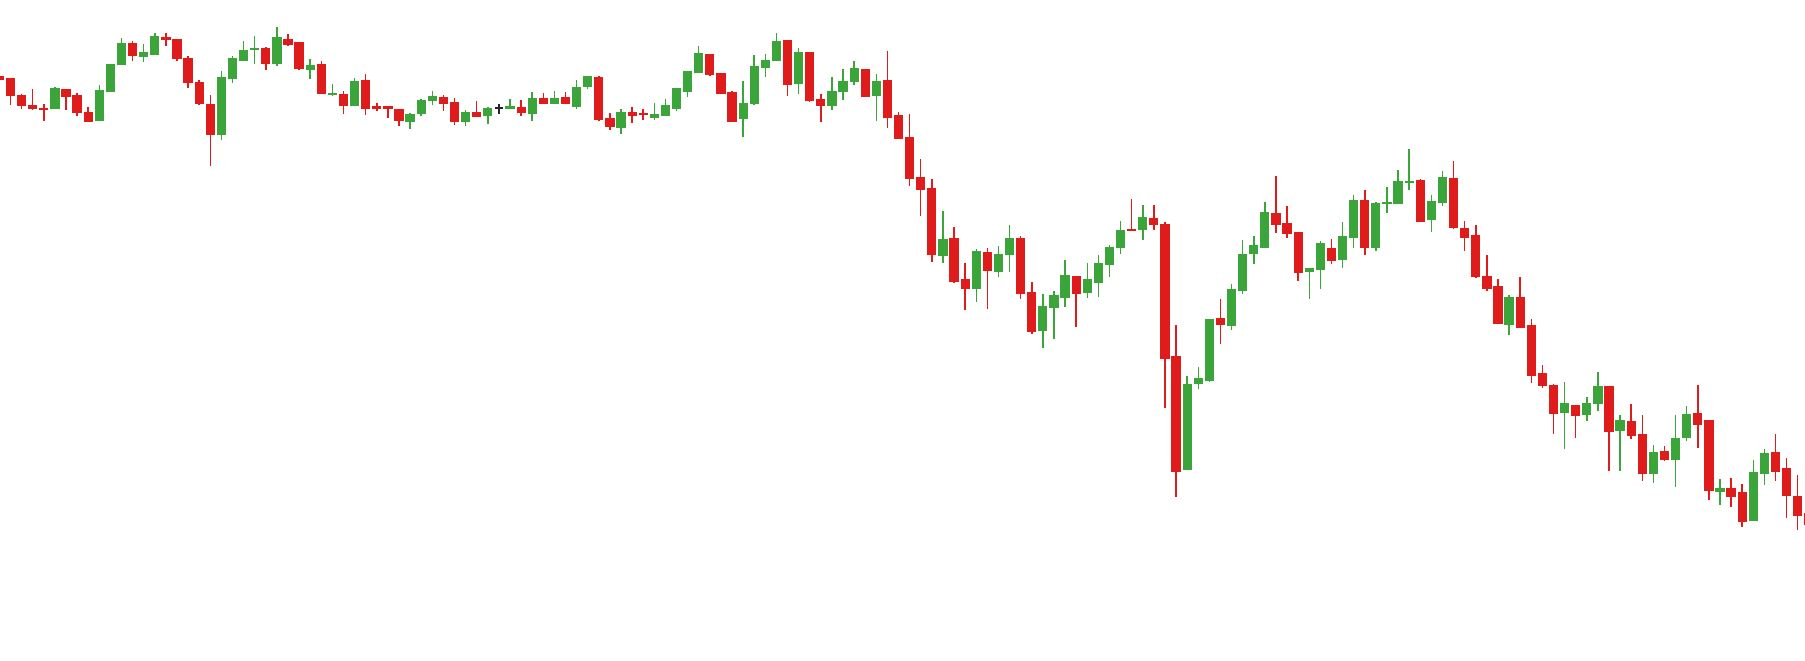buy: (1027, 237, 1217, 497), (94, 58, 229, 175)
sell: (691, 35, 795, 108), (1627, 386, 1703, 468)
